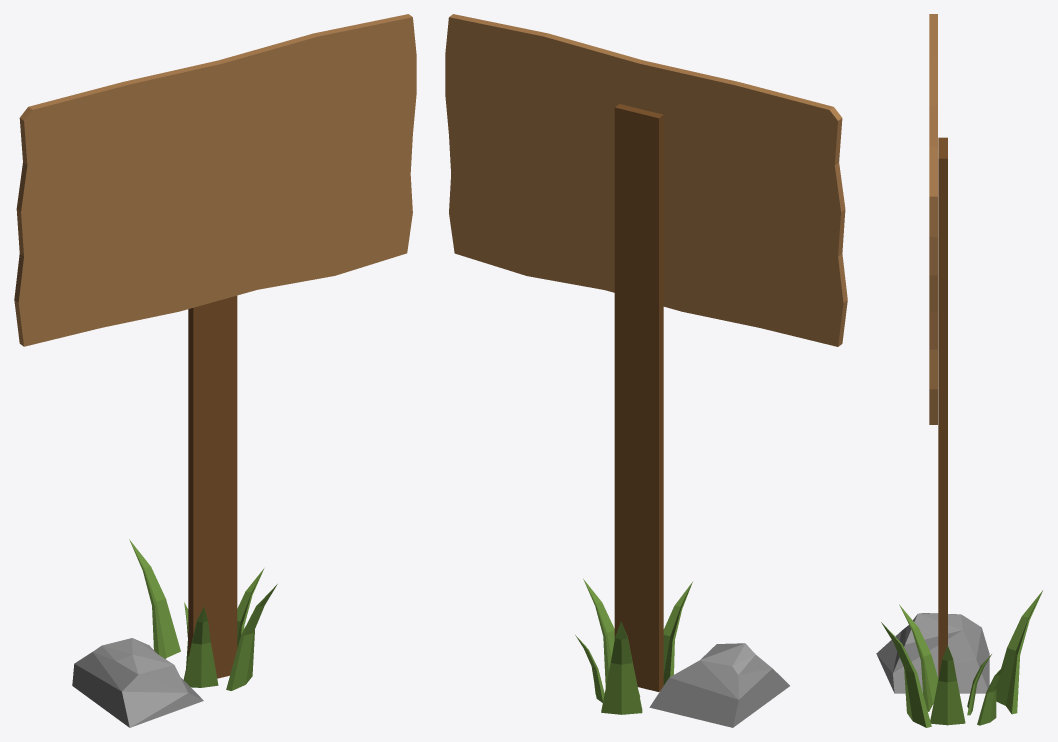
File: mdl_sign_main_v2.gltf
3 renders of one model, left to right at view 1: azimuth 30°, elevation 25°; view 2: azimuth 150°, elevation 25°; view 3: azimuth 270°, elevation 25°, orthographic.
Parts seen in each view (by area): view 1: Sign; view 2: Sign; view 3: Sign.
Boxes of the visible parts, box(x1,y1,x2,y2) form: Sign: box(14, 14, 416, 727); Sign: box(445, 14, 847, 727); Sign: box(876, 14, 1042, 727).
Bounding box in the file's own units: 1.68 × 2.51 × 0.6212.
